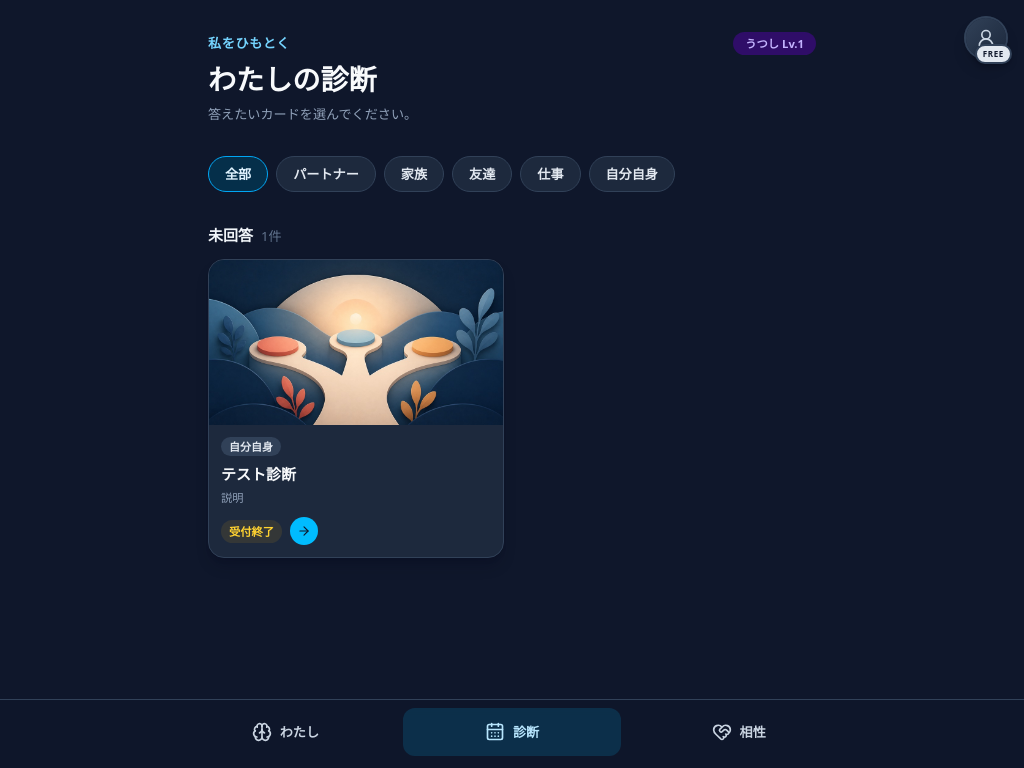
it: App › 受付終了かつ未回答では新規回答を始めず案内へ進む
Click the button "自分自身 テスト診断 説明 受付終了". click: (356, 408)
box: [208, 259, 504, 558]
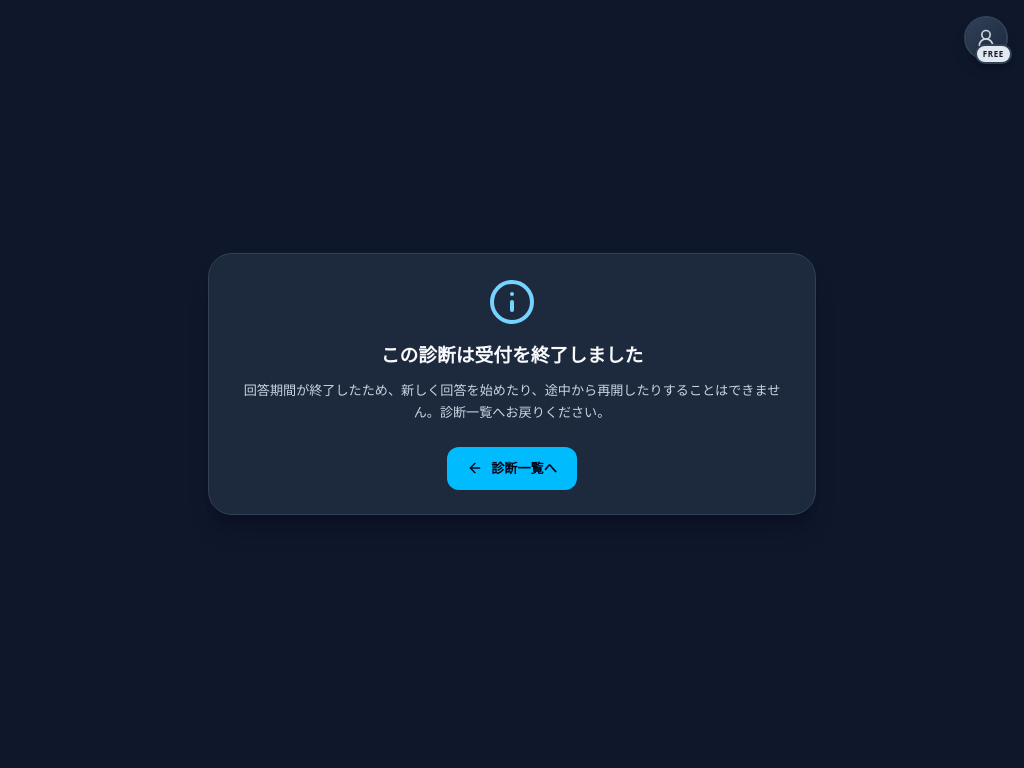
Check: the heading "この診断は受付を終了しました" is shown, box [381, 342, 643, 367]
Check: the text "回答期間が終了したため、新しく回答を始めたり、途中から再開したりすることはできません。診断一覧へお戻りください。" is shown, box [233, 380, 791, 423]
